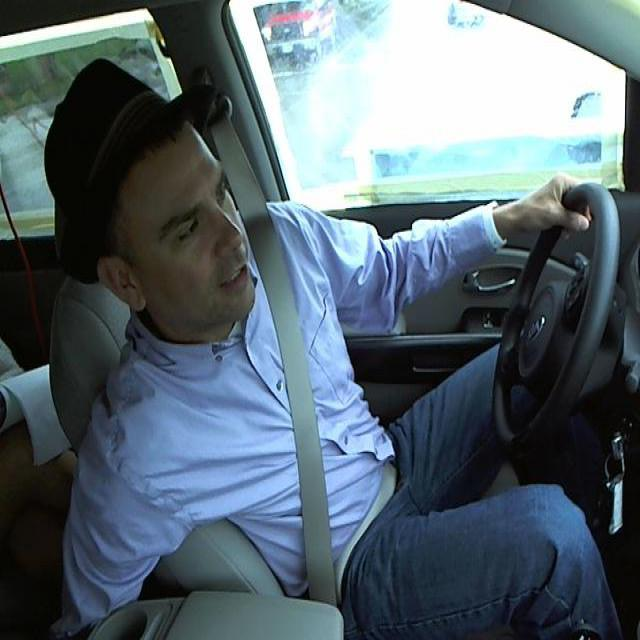seatbelt: (261, 336, 356, 596)
